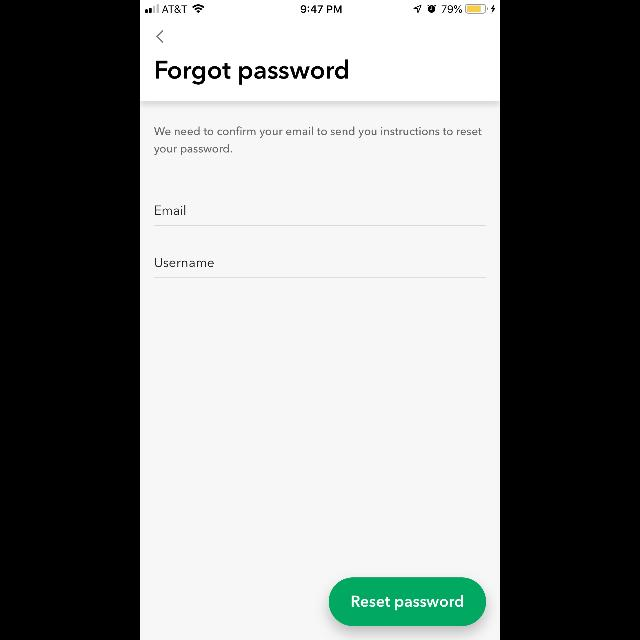icon: (156, 31, 164, 44)
input: (154, 206, 486, 227), (154, 258, 486, 278)
text: (154, 126, 482, 156), (156, 60, 348, 84), (155, 258, 213, 268), (155, 205, 185, 215)
textbutton: (328, 578, 486, 626)
uppertaskbar: (140, 0, 500, 14)
